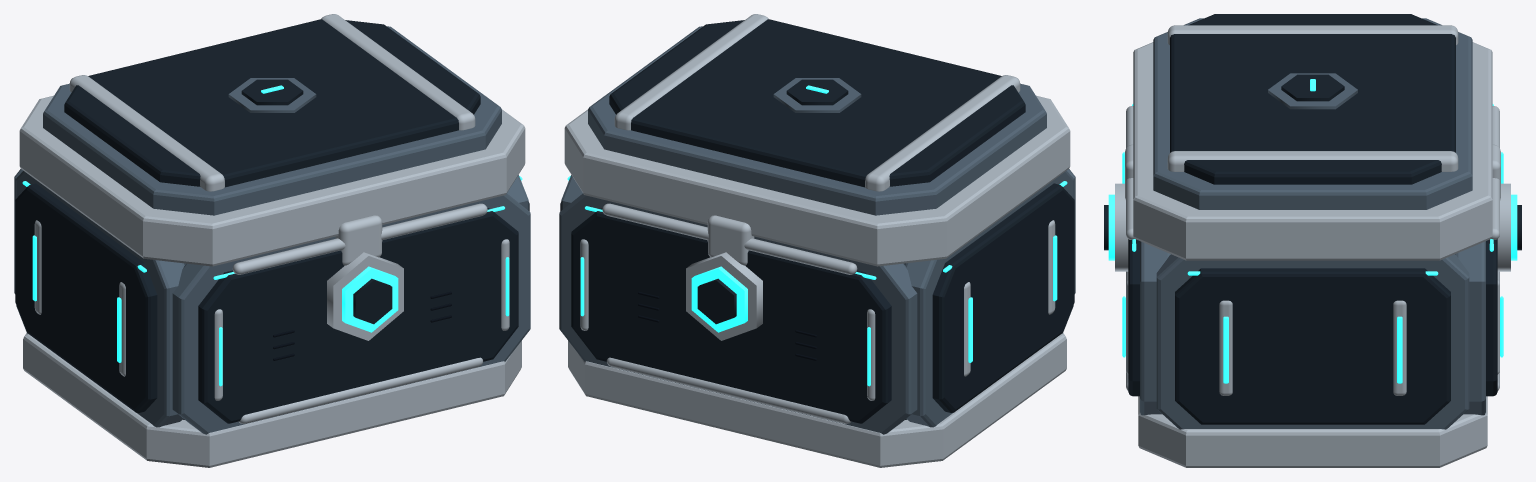
The model's file is daily-chest.glb.
3 views of the same model, side by side, from view 1: azimuth 30°, elevation 25°; view 2: azimuth 150°, elevation 25°; view 3: azimuth 270°, elevation 25° (orthographic). The views are drawn at different scales.
Visible parts, largest first — view 1: lid, front, left, base; view 2: lid, back, left, base; view 3: lid, right, base, front, back.
Part boxes in pixels (x1,y1,x2,y2): lid: [19, 14, 525, 266]; front: [172, 193, 530, 434]; left: [15, 171, 184, 427]; base: [23, 333, 521, 467]; lid: [564, 14, 1070, 266]; back: [559, 193, 917, 434]; left: [905, 171, 1074, 427]; base: [568, 333, 1066, 467]; lid: [1133, 14, 1492, 260]; right: [1156, 254, 1469, 429]; base: [1138, 396, 1487, 467]; front: [1104, 104, 1170, 415]; back: [1455, 104, 1521, 415].
Bounding box in the file's own units: 2.8 × 1.92 × 2.5.
